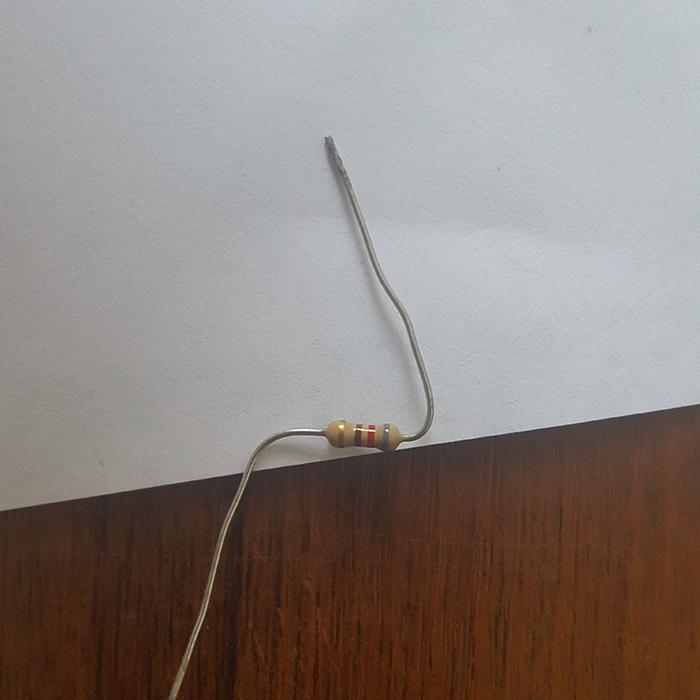resistor: (324, 418, 407, 451)
